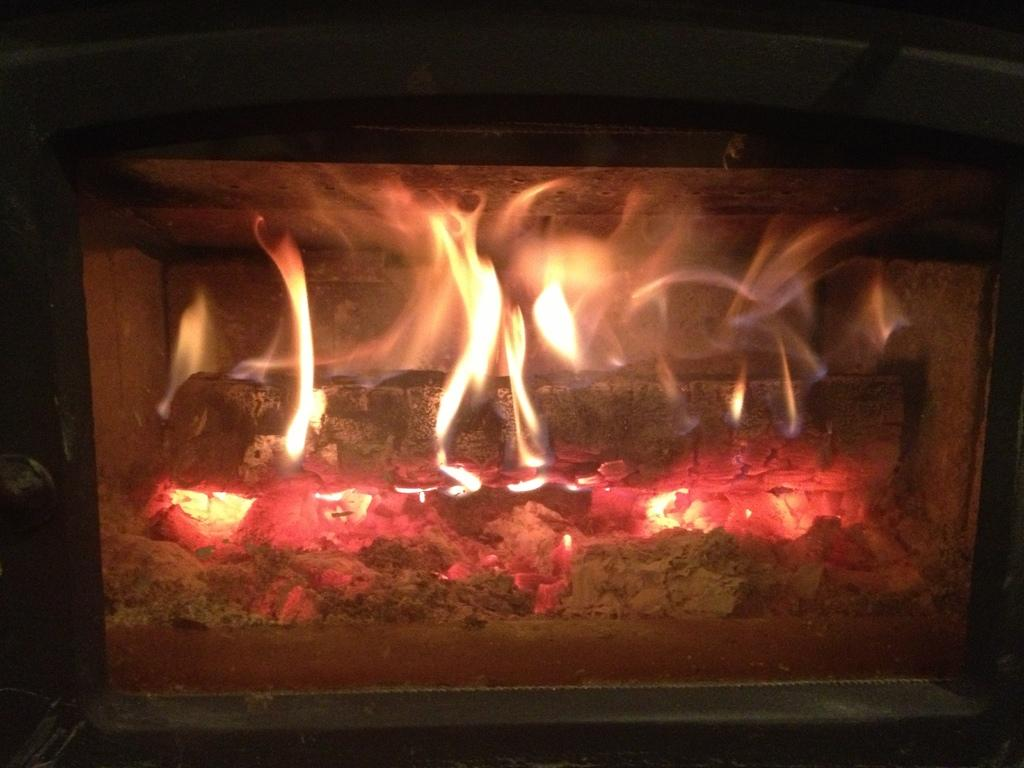Fire: (141, 161, 894, 601)
